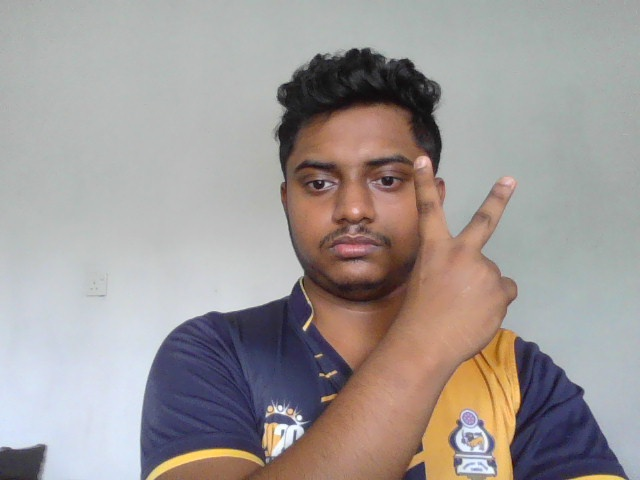See You: (408, 155, 519, 369)
